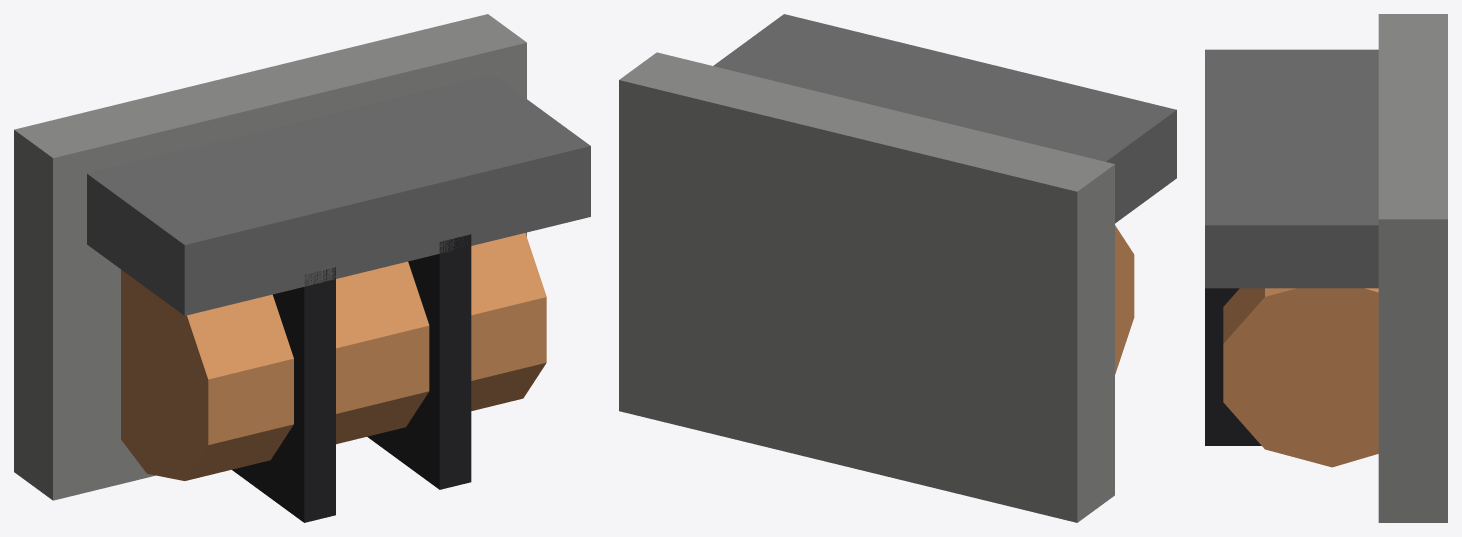
The model's file is vge_station_light.obj.
3 renders of one model, left to right at view 1: azimuth 30°, elevation 25°; view 2: azimuth 150°, elevation 25°; view 3: azimuth 270°, elevation 25°, orthographic. The views are drawn at different scales.
Parts seen in each view (by area): view 1: oc_emergency_light_red_1, oc_emergency_light_red_0, oc_emergency_light_red_2, oc_emergency_light_red_4, oc_emergency_light_red_3; view 2: oc_emergency_light_red_0, oc_emergency_light_red_1, oc_emergency_light_red_2; view 3: oc_emergency_light_red_1, oc_emergency_light_red_0, oc_emergency_light_red_2, oc_emergency_light_red_4.
Part boxes in pixels (x1=…): oc_emergency_light_red_1: x1=87, y1=74, x2=590, y2=315; oc_emergency_light_red_0: x1=14, y1=14, x2=526, y2=500; oc_emergency_light_red_2: x1=121, y1=233, x2=546, y2=480; oc_emergency_light_red_4: x1=367, y1=234, x2=471, y2=489; oc_emergency_light_red_3: x1=232, y1=267, x2=335, y2=522; oc_emergency_light_red_0: x1=619, y1=52, x2=1114, y2=522; oc_emergency_light_red_1: x1=713, y1=14, x2=1176, y2=223; oc_emergency_light_red_2: x1=1115, y1=225, x2=1134, y2=374; oc_emergency_light_red_1: x1=1205, y1=49, x2=1378, y2=288; oc_emergency_light_red_0: x1=1378, y1=14, x2=1447, y2=522; oc_emergency_light_red_2: x1=1223, y1=288, x2=1378, y2=467; oc_emergency_light_red_4: x1=1205, y1=288, x2=1261, y2=445.
Size of the model in its own units: 0.42 by 0.29 by 0.21.
